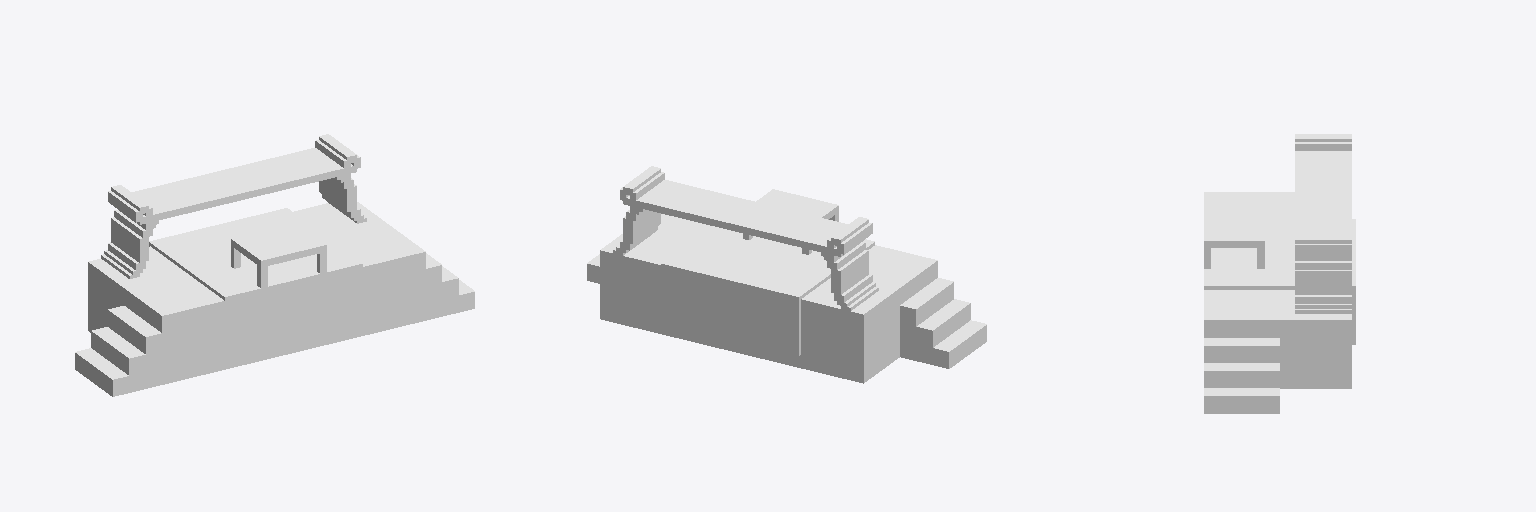
Rendered from Parade.obj.
3 views of the same model, side by side, from view 1: azimuth 30°, elevation 25°; view 2: azimuth 150°, elevation 25°; view 3: azimuth 270°, elevation 25° (orthographic).
Parts seen in each view (by area): view 1: object 1; view 2: object 1; view 3: object 1.
Part boxes in pixels (x1,y1,x2,y2): object 1: (75,134,474,396); object 1: (587,166,986,383); object 1: (1204,134,1355,413).
Bounding box in the file's own units: 11 × 4 × 4.